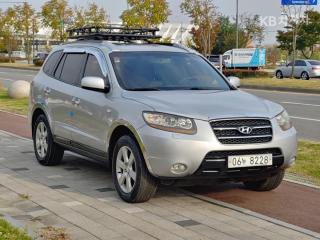0: (232, 157, 237, 166)
2: (254, 156, 259, 165), (259, 155, 264, 164)
6: (237, 157, 242, 166)
8: (264, 156, 269, 164), (250, 156, 254, 165)
plate: (224, 151, 275, 171)
누: (242, 157, 247, 164)
